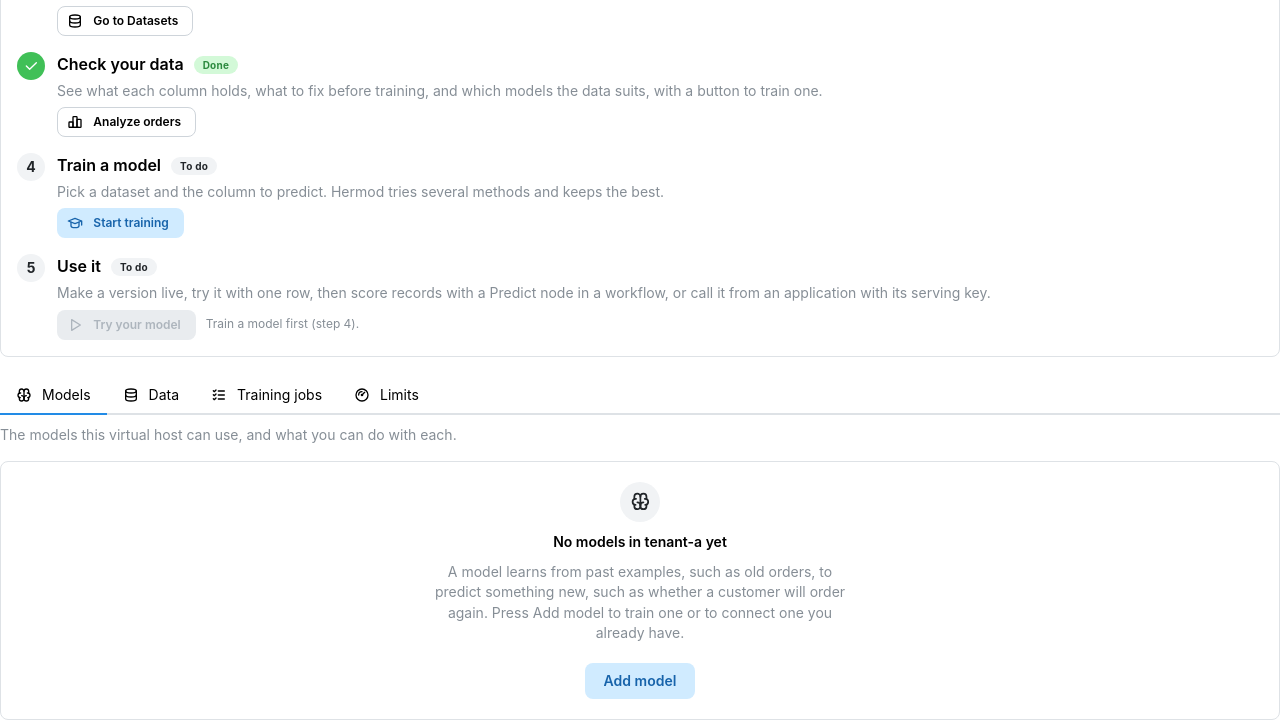
Test: Analyzing a dataset › shows each column with its numbers and a chart that says what it draws
(page scrolled)
Click the tab "Data" at (151, 396), box [107,376,195,414]
(page scrolled)
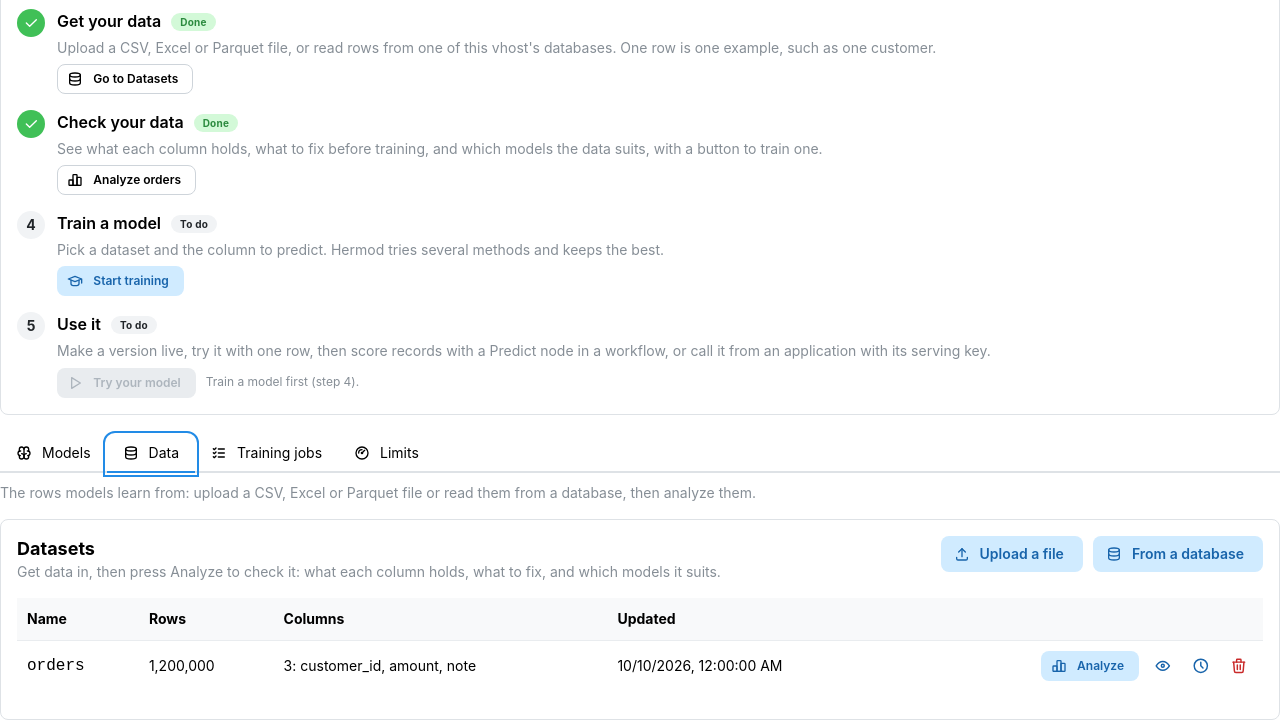
Click the button with aria-label "Analyze orders" at (1090, 666), box [1041,651,1139,681]
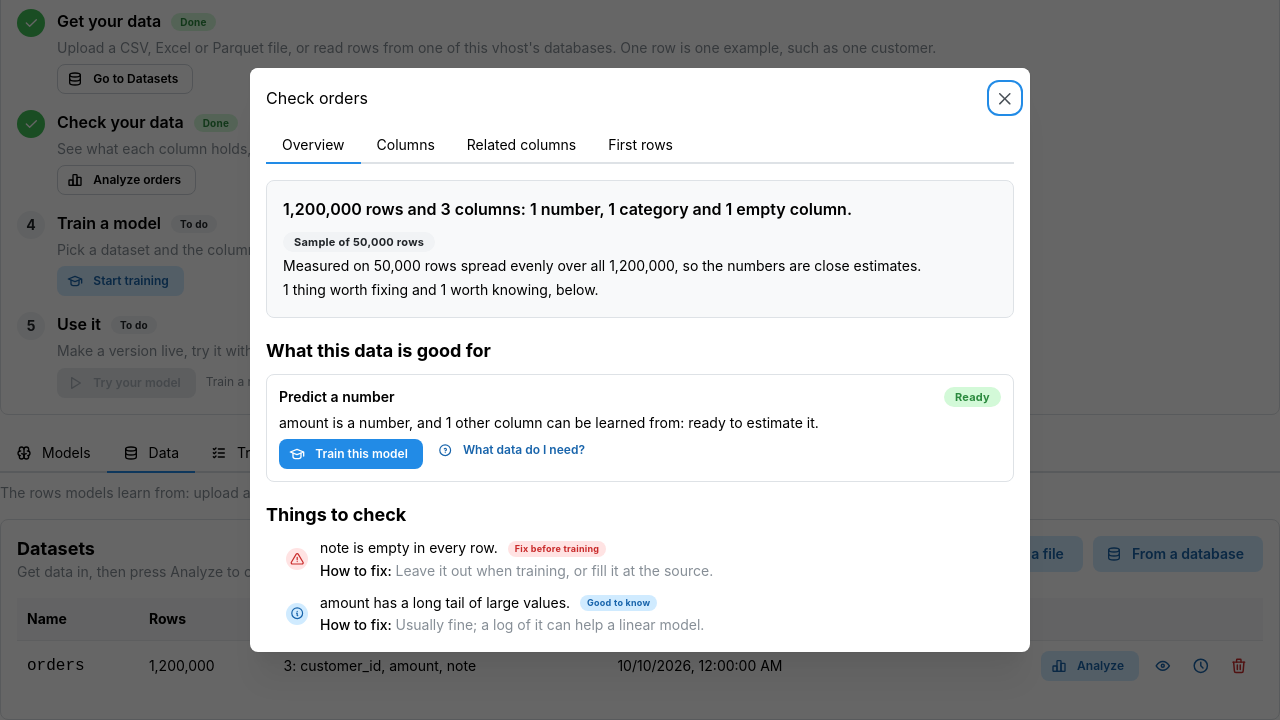
Click the tab "Columns" at (406, 146), box [361,128,451,164]
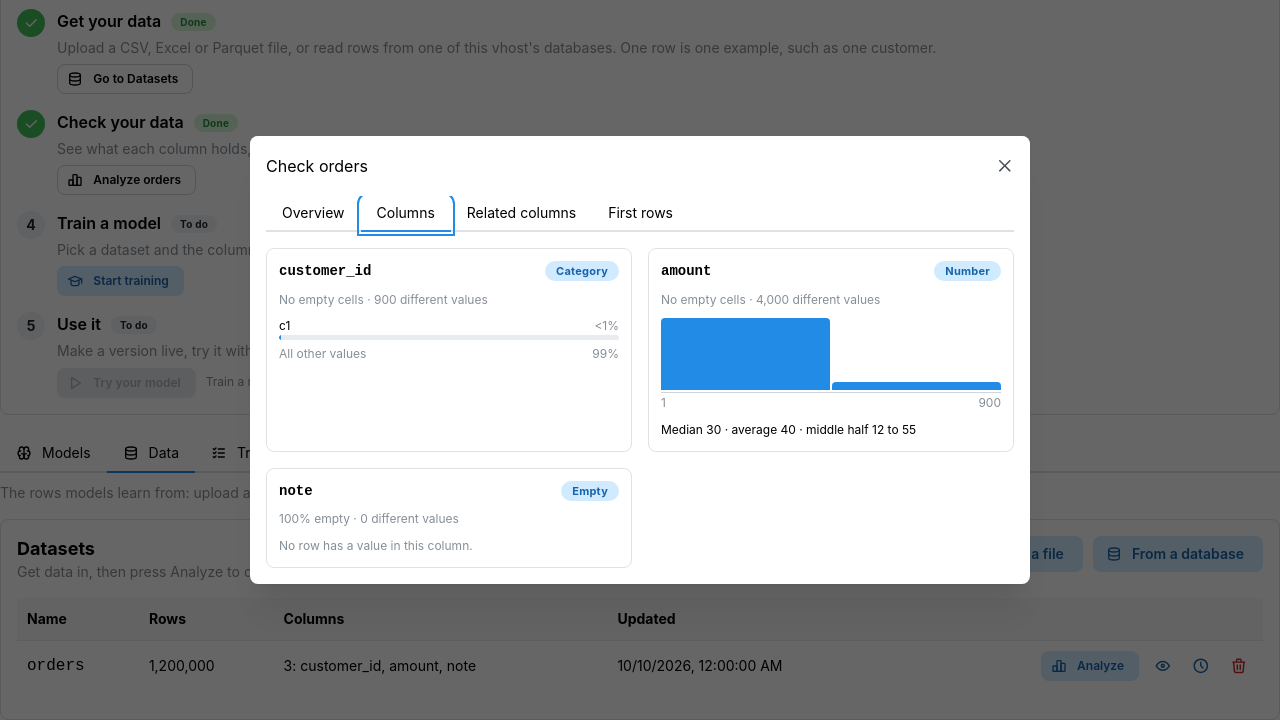
expect the element named "amount" is shown: met, box [661,318,1001,390]
expect the text "Median 30 · average 40 · middle half 12 to 55" is shown: met, box [661,422,916,437]
